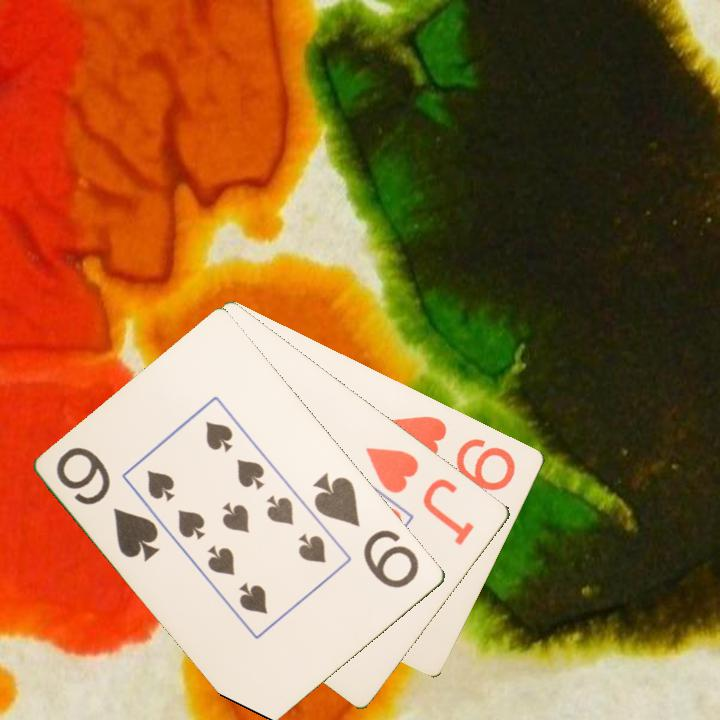9h: (388, 412, 519, 494)
9s: (310, 468, 423, 592), (52, 443, 164, 565)
Jh: (362, 443, 478, 548)
